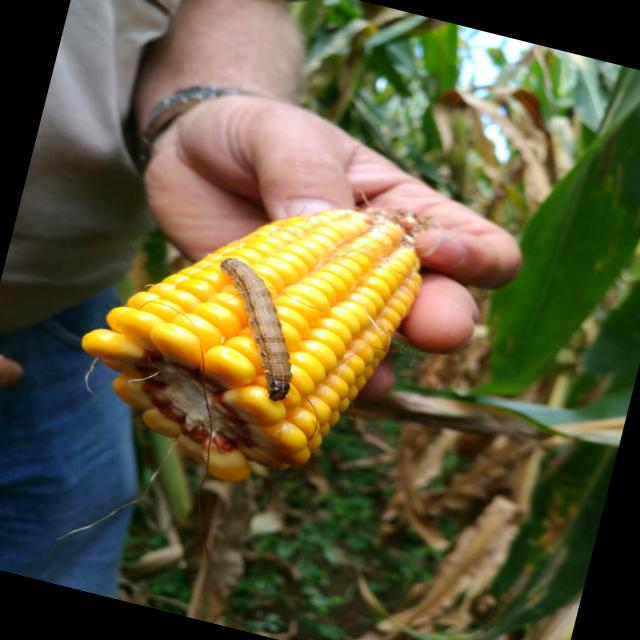pest: (188, 255, 318, 401)
